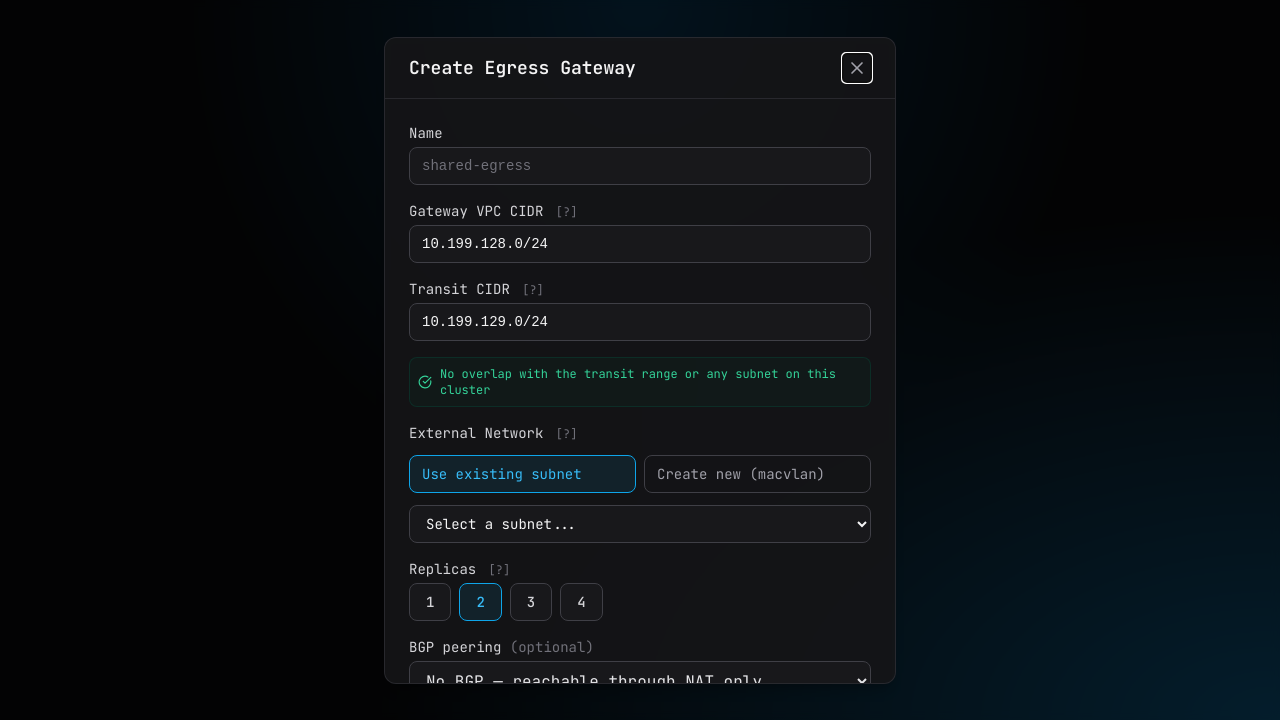
Test: the CIDR preflight › still catches the two typed ranges overlapping each other
Replace the text in the field below "Gateway VPC CIDR" with "10.198.0.0/24" at (640, 244), box top-left (409, 224), bottom-right (871, 262)
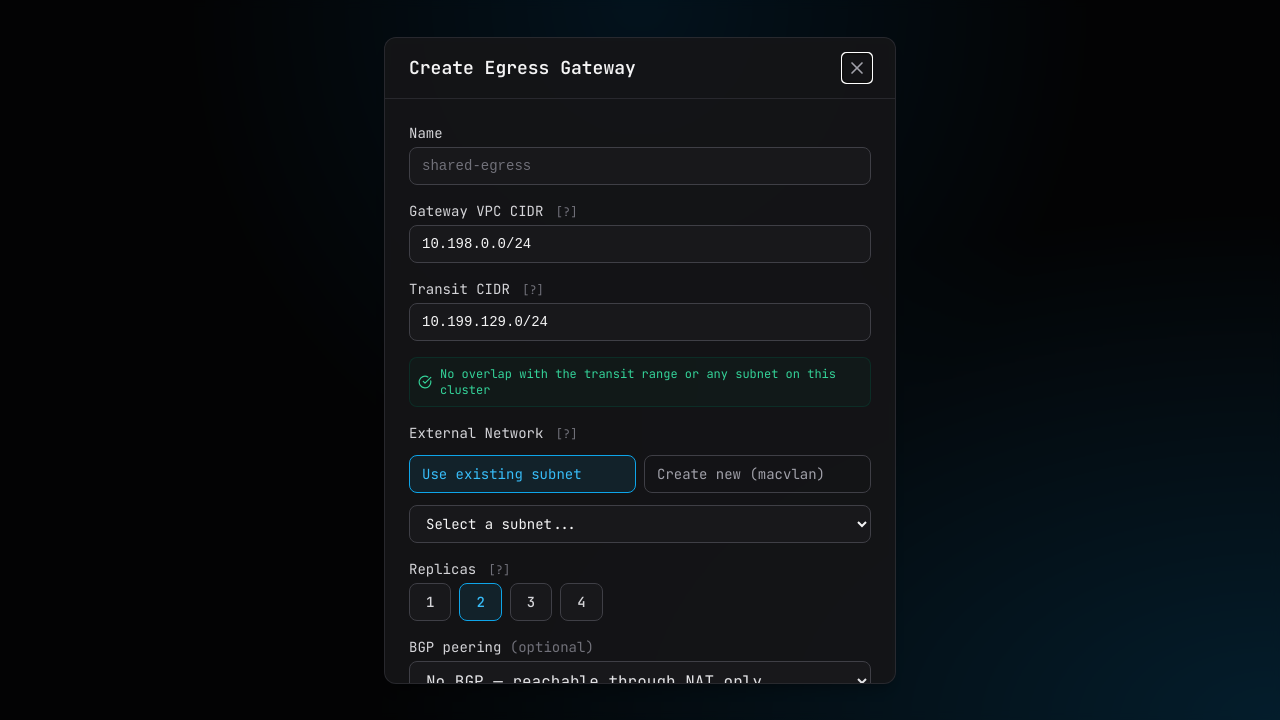
Replace the text in the field below "Transit CIDR" with "10.198.0.0/25" at (640, 322), box top-left (409, 302), bottom-right (871, 340)
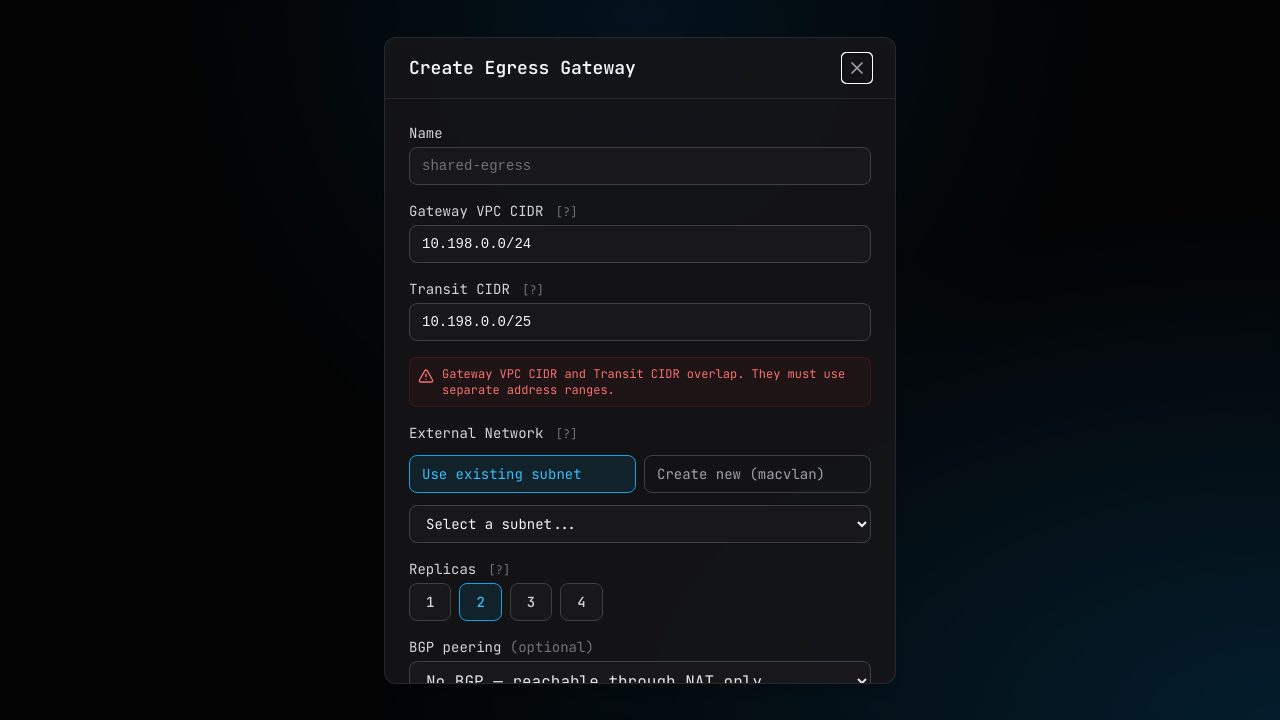
Expected: the text "must use separate address ranges" is shown, top-left (442, 366), bottom-right (845, 398)
